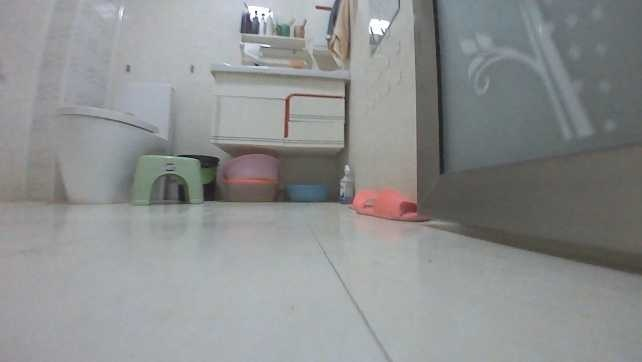plastic_stool: (129, 150, 205, 208)
slipper: (349, 185, 425, 224)
toilet: (36, 75, 172, 211)
washstand: (206, 60, 350, 156)
